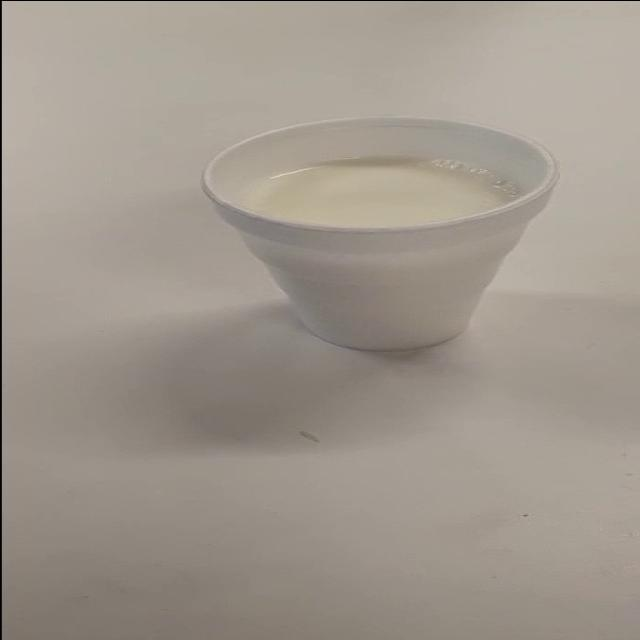Milk: (203, 100, 577, 365)
